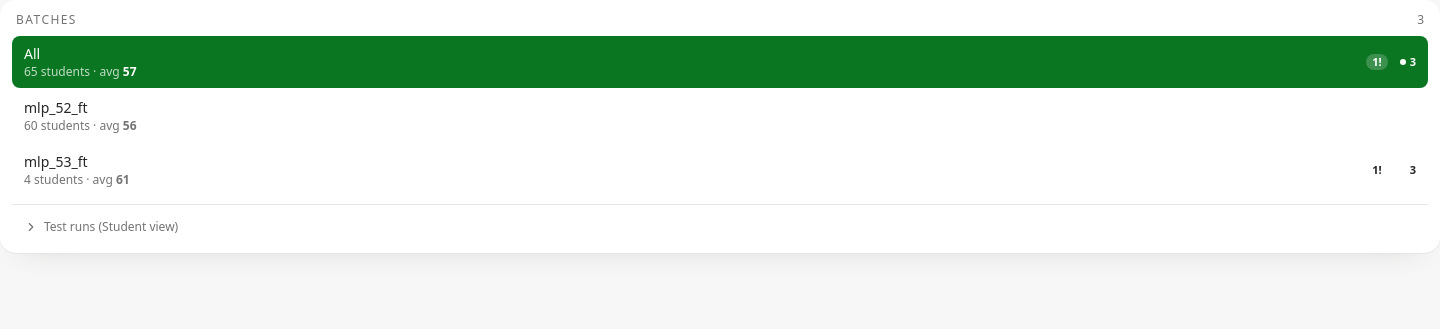
Test case: BatchRail › keeps Student view test runs folded away until asked
Expected: the button "MASTER" is not shown
Click the button "Test runs (Student view)" at [111, 226], box 12,213 -> 1428,241
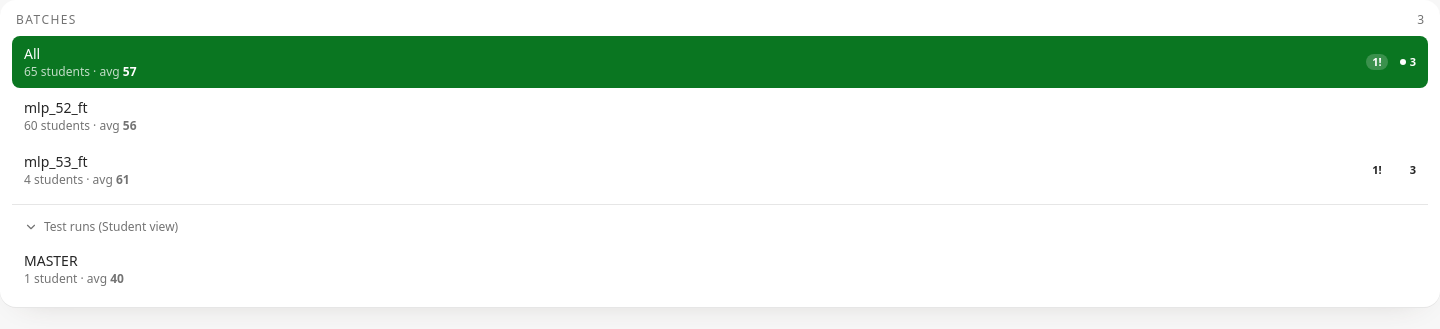
Result: the button "MASTER 1 student · avg 40" is shown at 12,243 -> 1428,295
